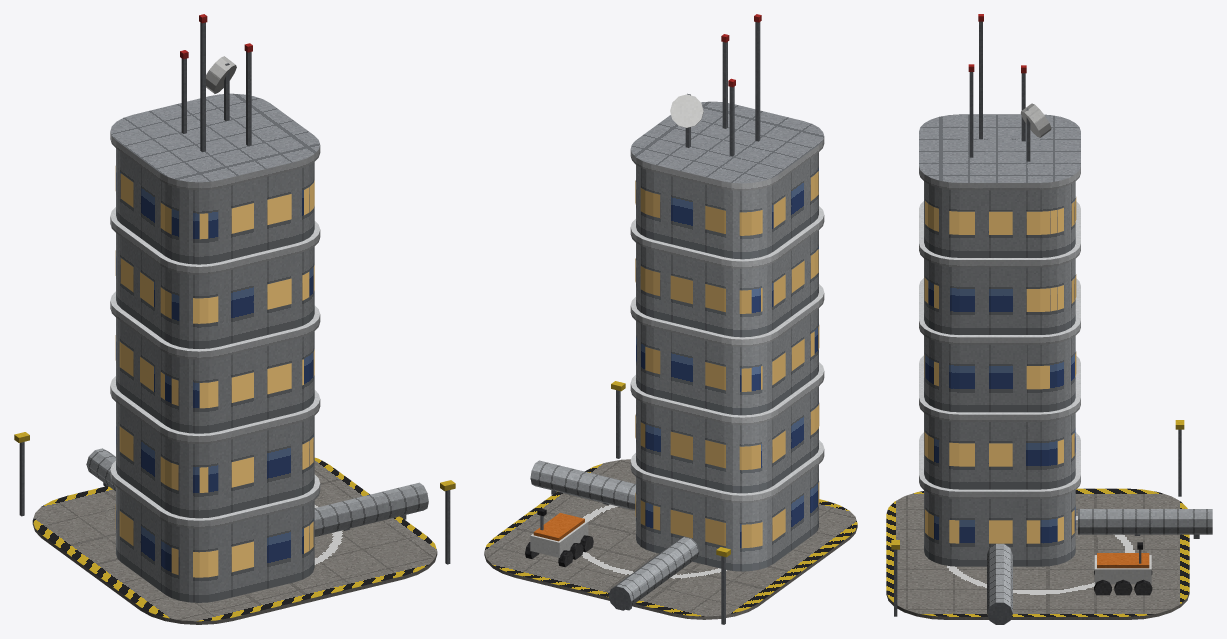
The model's file is mars_3_inhab_vez_a.glb.
3 views of the same model, side by side, from view 1: azimuth 30°, elevation 25°; view 2: azimuth 150°, elevation 25°; view 3: azimuth 270°, elevation 25° (orthographic). The views are drawn at different scales.
Visible parts, largest first — view 1: inhab_vez_a, noc; view 2: inhab_vez_a, noc; view 3: inhab_vez_a, noc.
Part boxes in pixels (<box>): inhab_vez_a: <box>14,14,455,624</box>; noc: <box>115,166,314,577</box>; inhab_vez_a: <box>484,14,857,624</box>; noc: <box>635,171,819,548</box>; inhab_vez_a: <box>886,14,1212,624</box>; noc: <box>924,197,1076,543</box>.
Bounding box in the file's own units: 13.78 × 23.87 × 13.78.
1 material, 1 textured.
